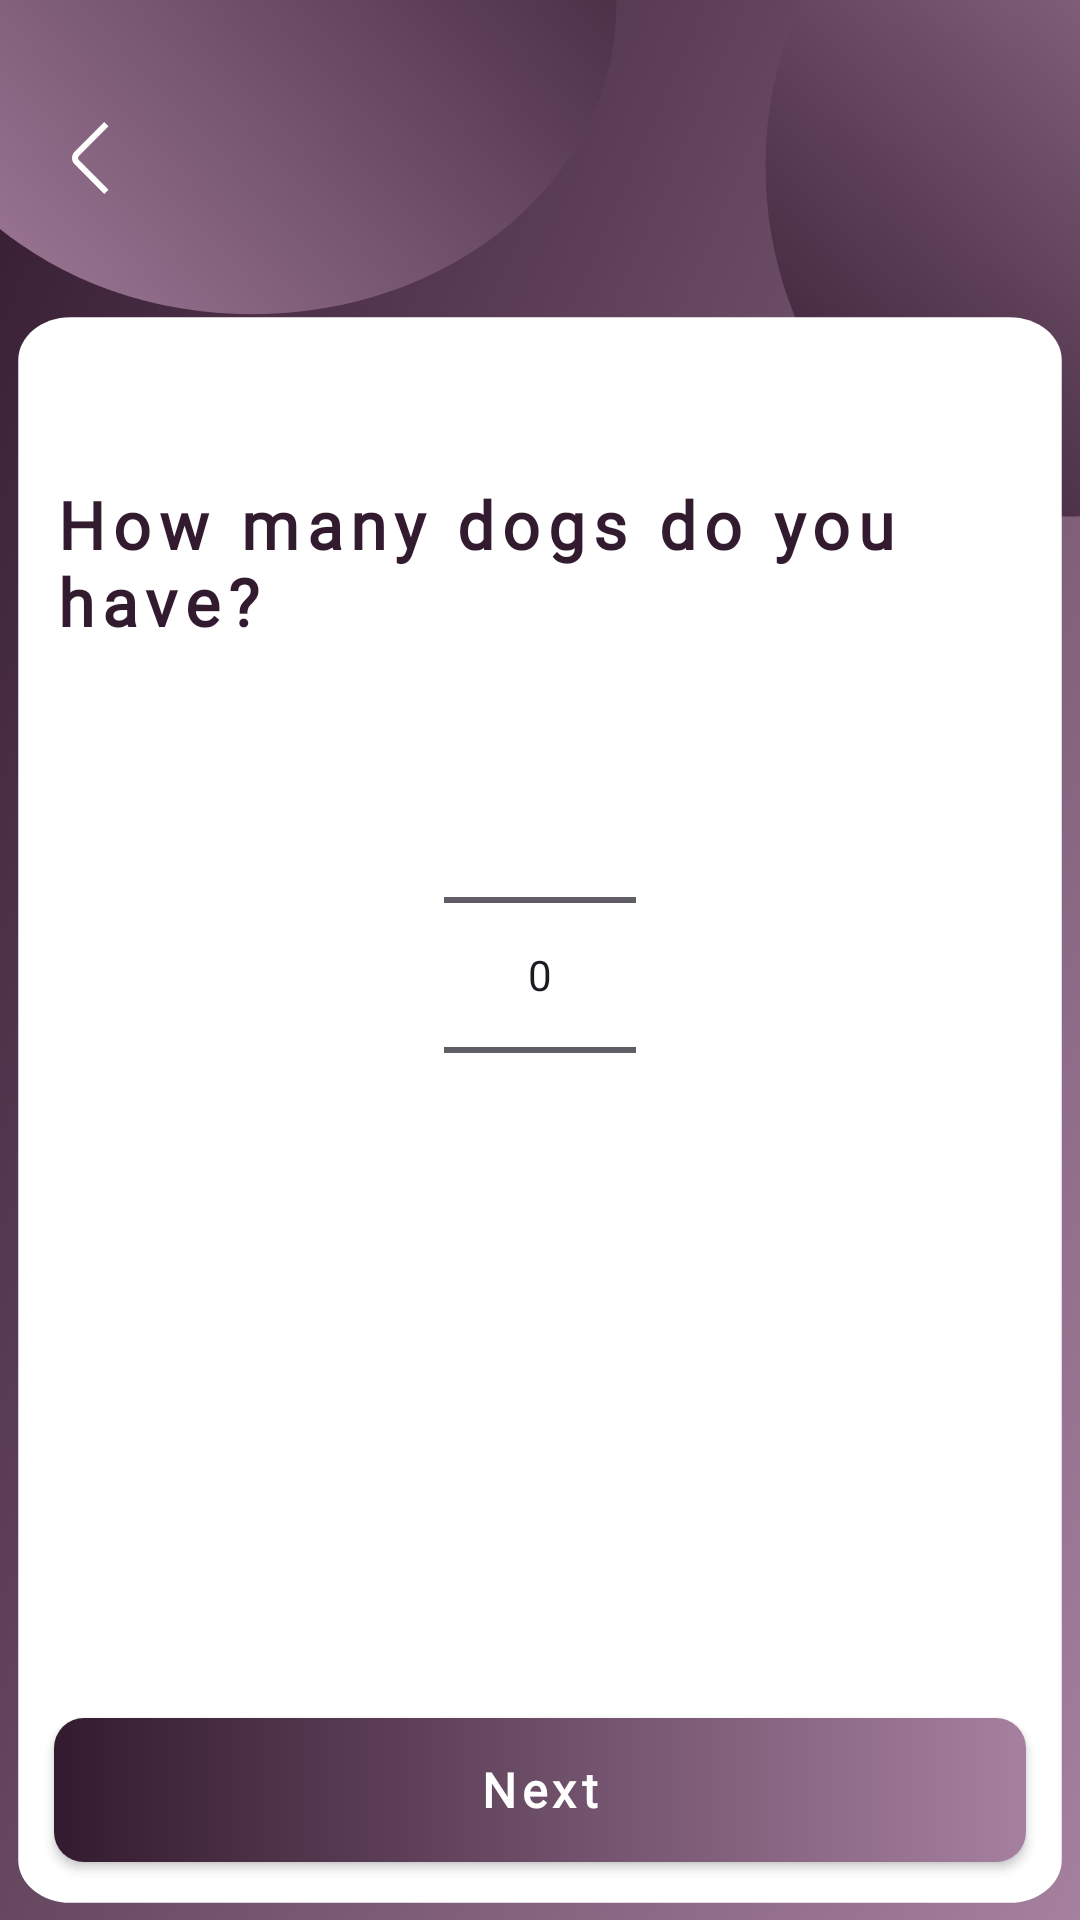

Where icons sit on this 1080px x 1920px app screen, as (x1, y1, x2, y2):
back arrow: (72, 122, 109, 194)
